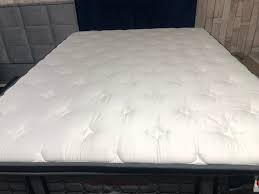bed-matress: (1, 28, 258, 194)
